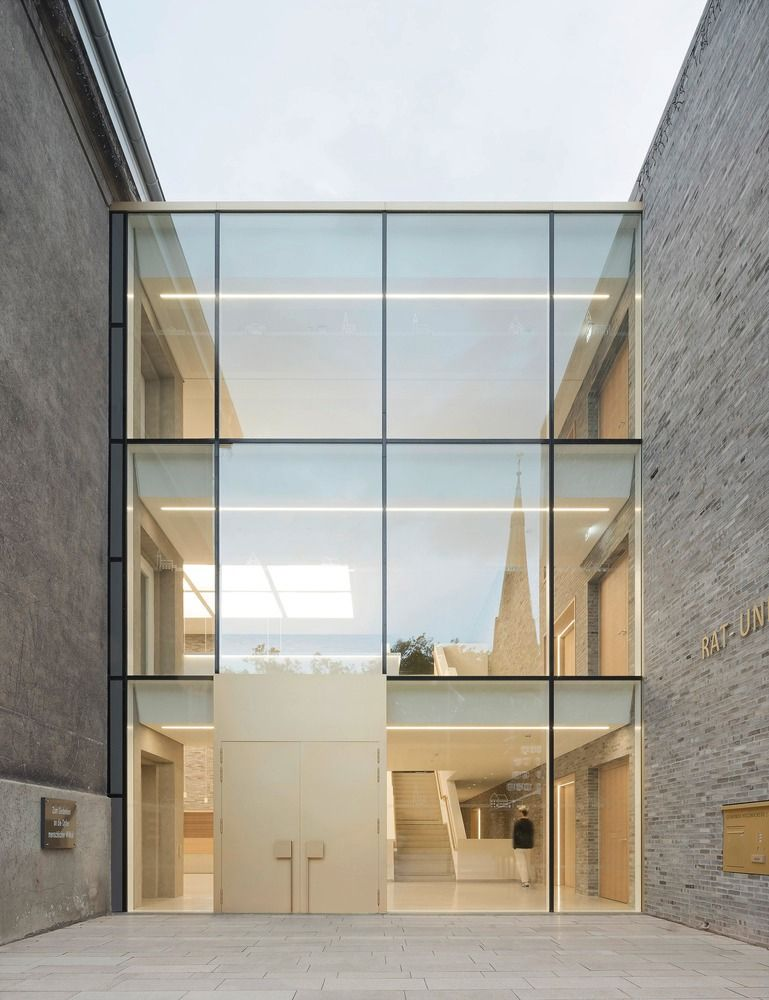glass panel: (219, 443, 381, 672), (387, 444, 547, 675), (387, 680, 547, 911), (387, 213, 548, 438), (220, 213, 381, 437), (126, 680, 213, 911), (127, 444, 214, 674), (553, 680, 640, 910), (554, 444, 640, 675), (127, 213, 215, 438), (554, 213, 640, 438)
